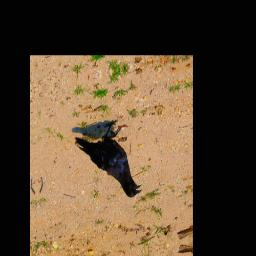Crow: (74, 115, 142, 210)
